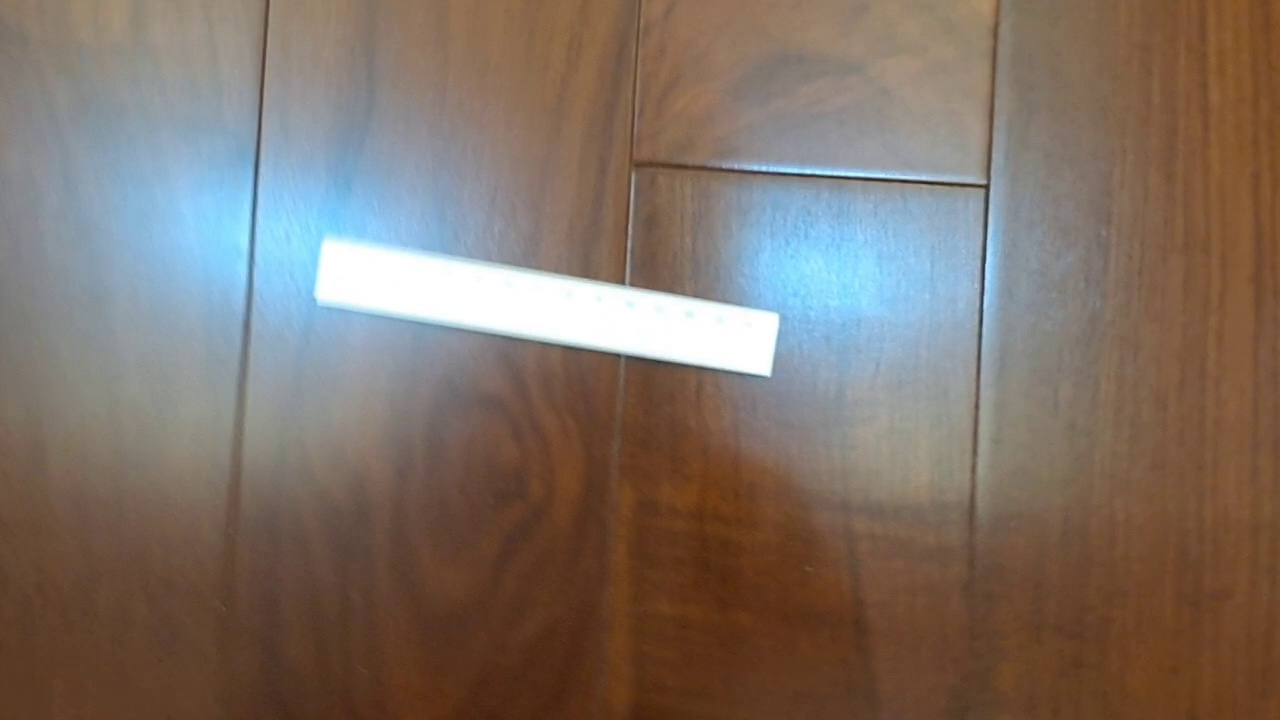ruler: (311, 230, 781, 381)
